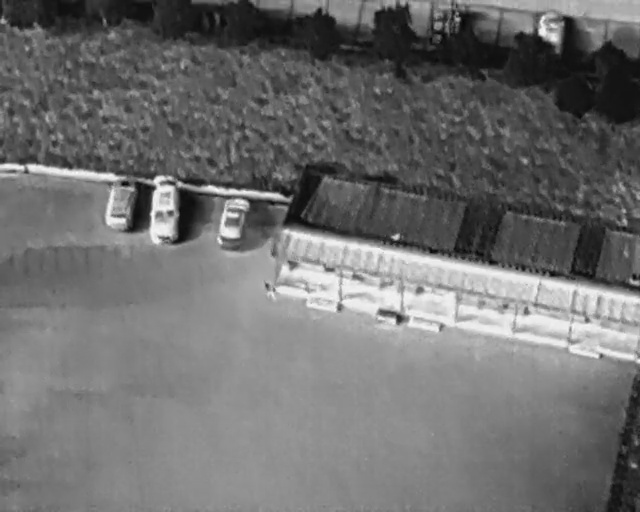Car: (214, 193, 252, 252), (152, 173, 181, 246), (104, 175, 139, 235), (538, 7, 565, 56)
